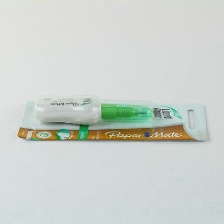book: (13, 98, 212, 143)
correction_fluid: (31, 94, 152, 127)
